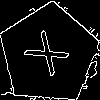X: (24, 29, 79, 84)
